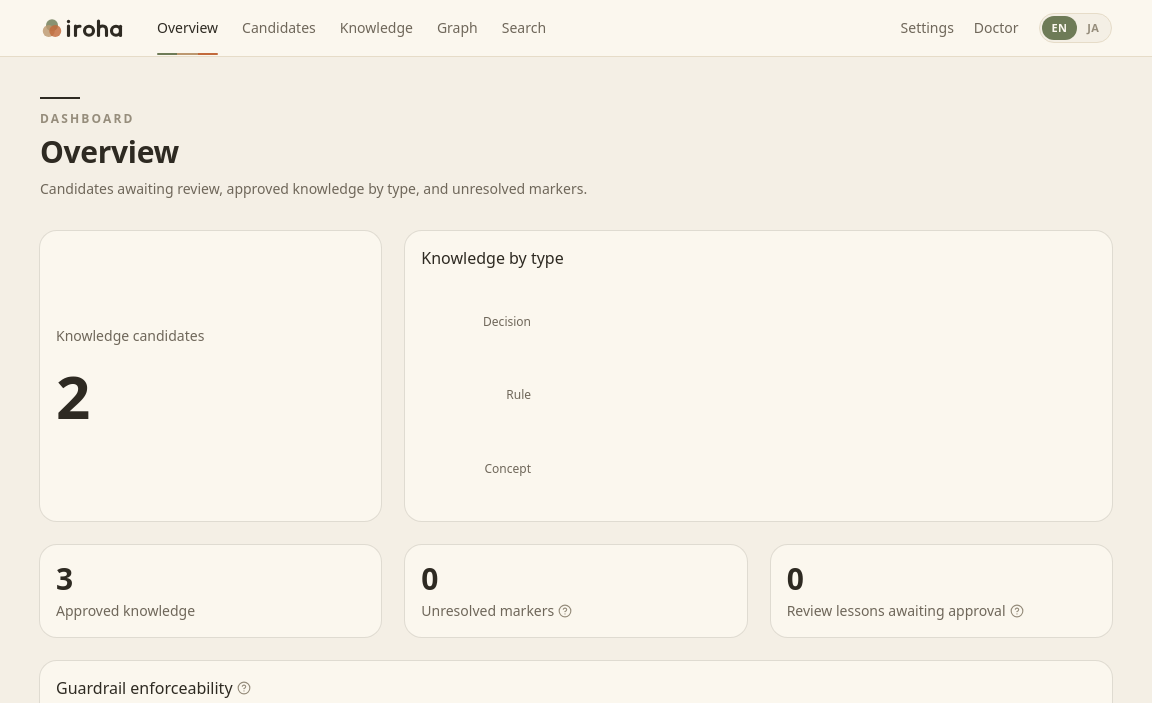
Test: App › defaults to English and toggles to Japanese
Check: the link "Candidates" is shown, box [242,18,316,37]
Step 1. Click the button "JA" → (1093, 28), box [1077,16,1109,40]
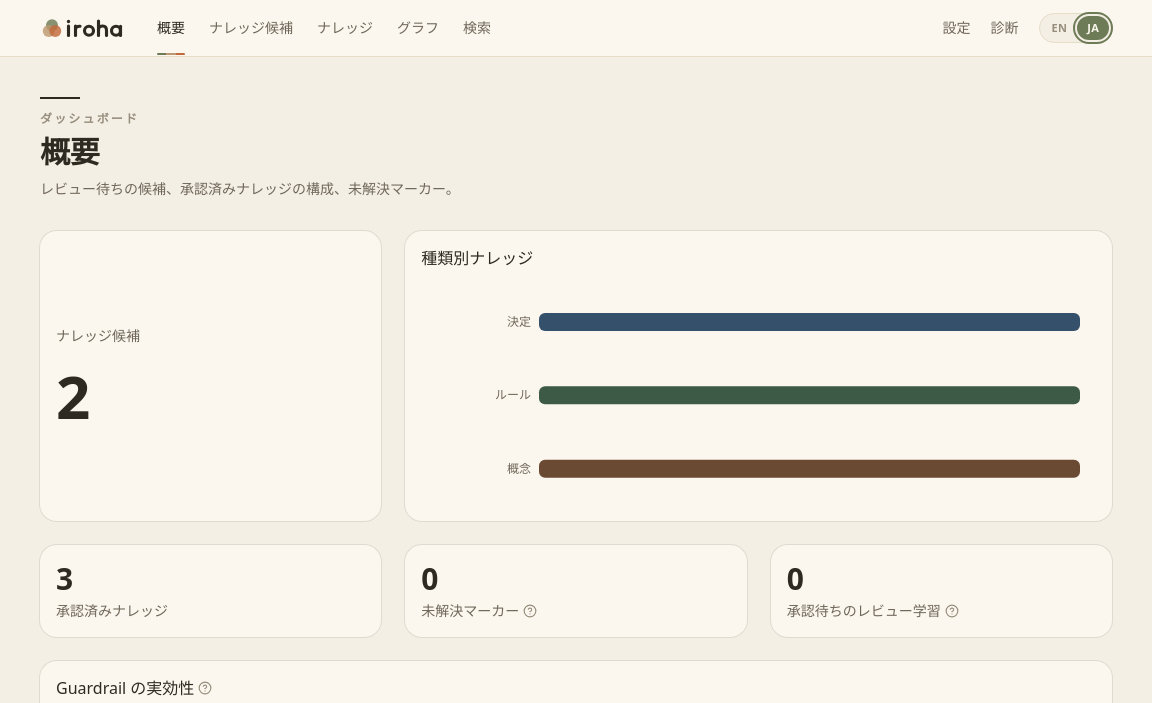
Check: the link "ナレッジ候補" is shown, box [209,18,293,37]
